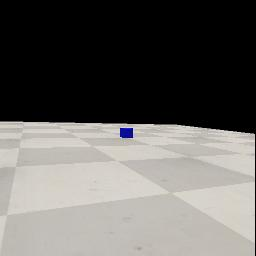box: (120, 128, 133, 138)
